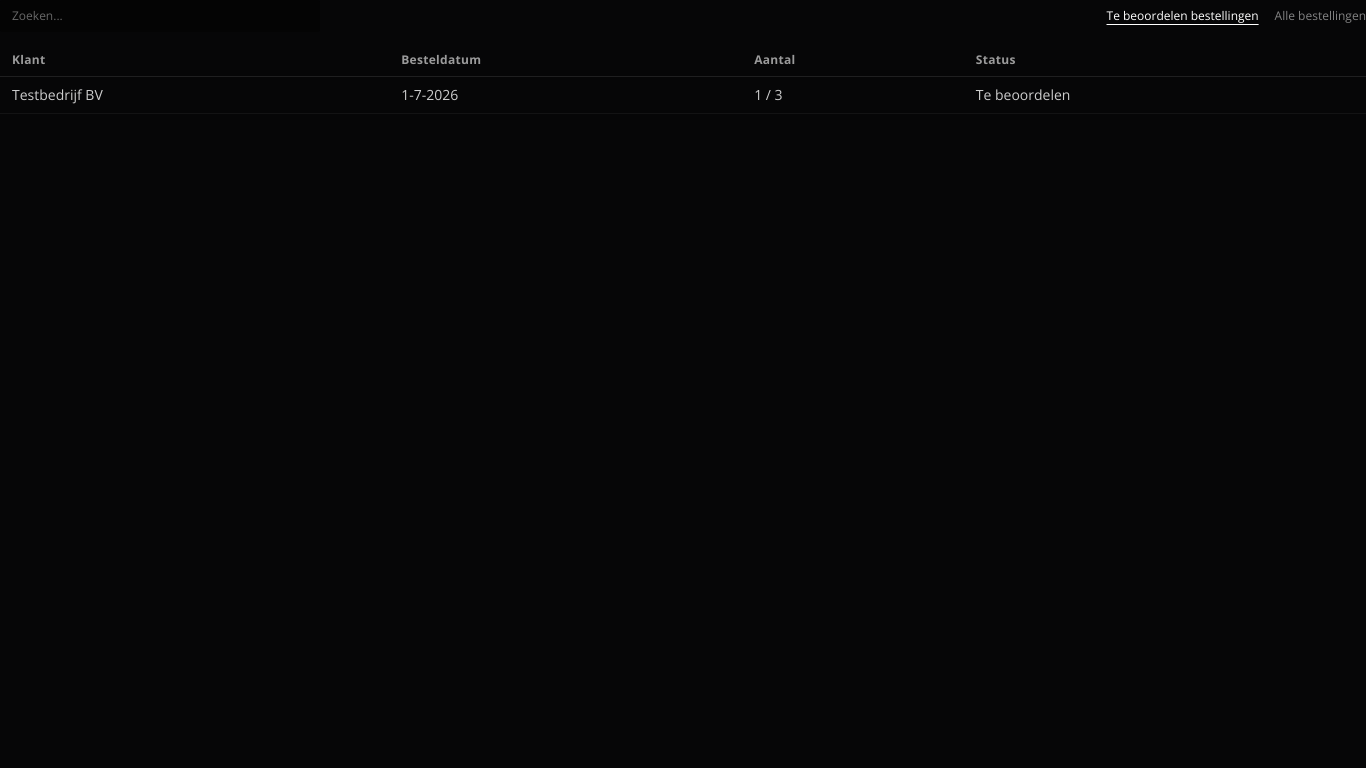
BestellingenSection › opens the BestellingModal with the clicked bestelling's resolved kunstwerk data when a row is clicked
Step 1. Click the row with test id "data-table-row-header-1" → (683, 95), box [0,76,1365,114]
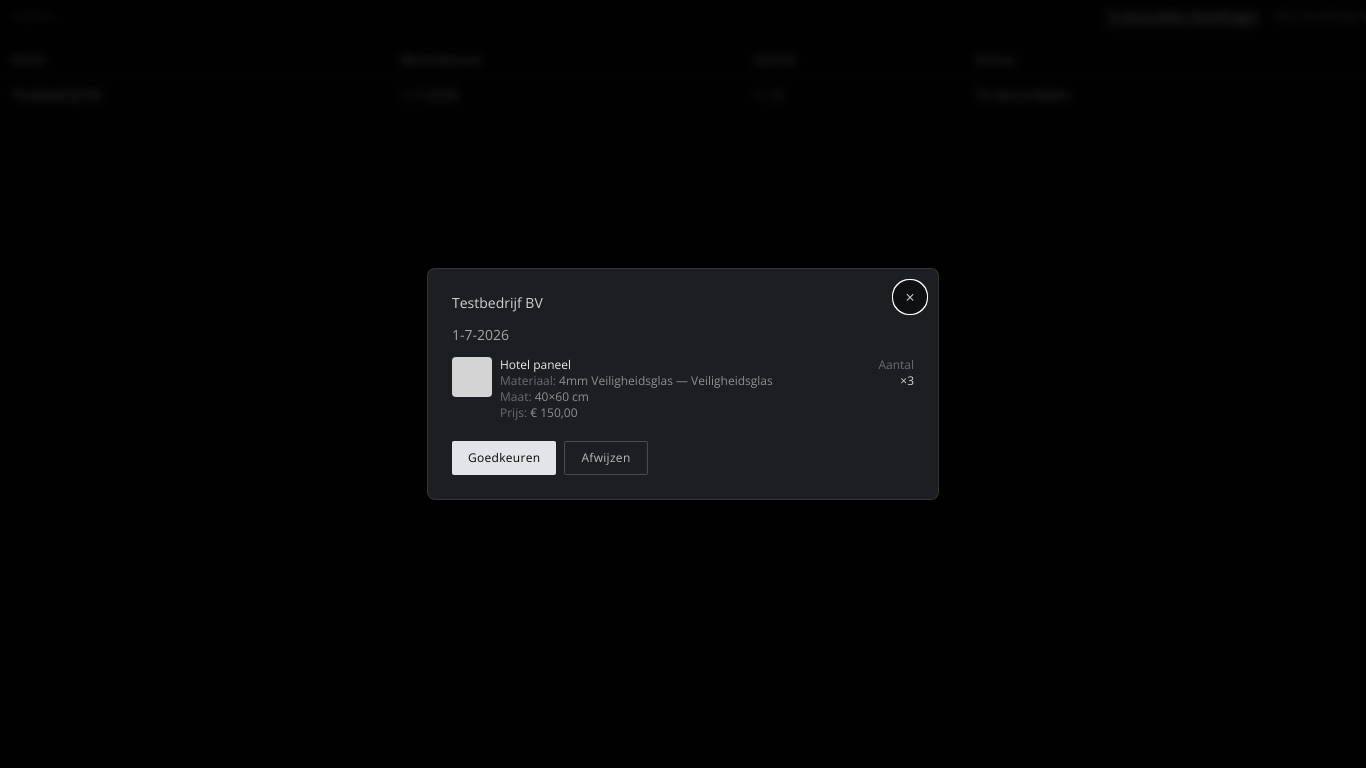
Result: the element with test id "bestelling-modal" shows "Testbedrijf BV" at [452,293,543,312]
Result: the element with test id "bestelling-modal" shows "Hotel paneel" at [500,356,571,373]
